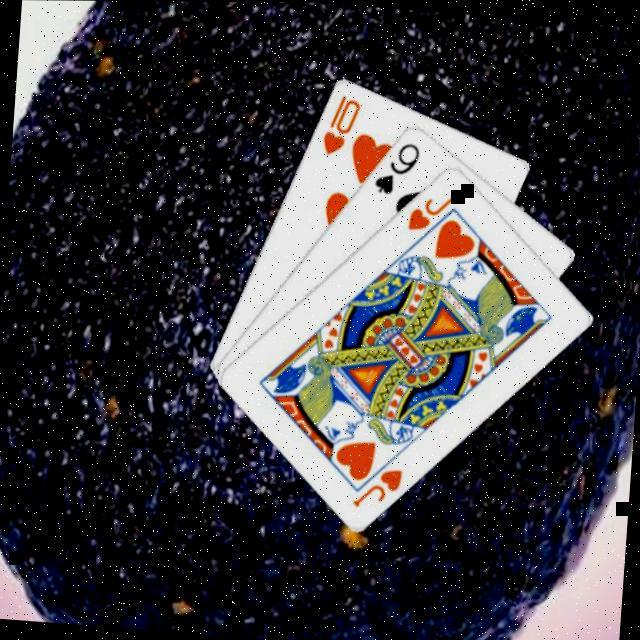10H: (316, 90, 364, 159)
9S: (368, 136, 422, 200)
JH: (347, 462, 404, 514), (402, 186, 460, 236)
